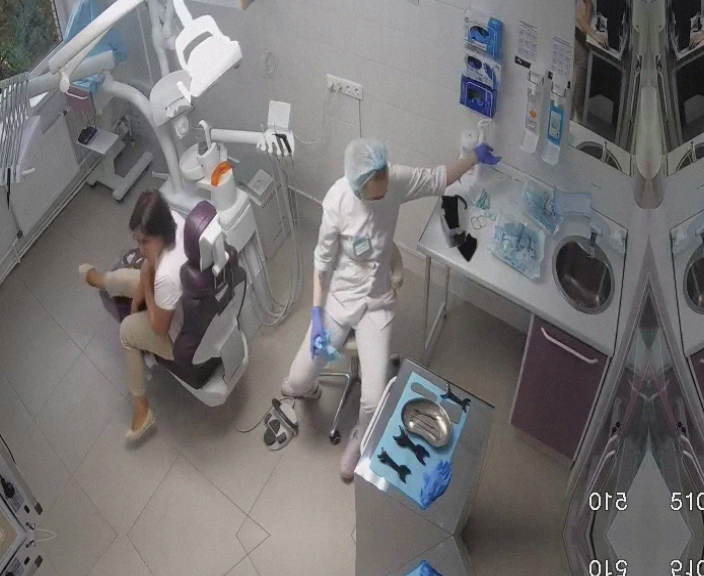Empty: (73, 190, 263, 445)
